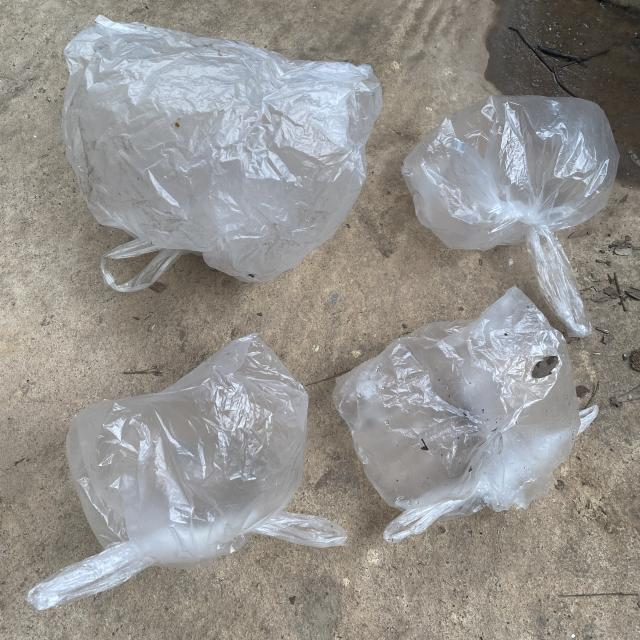Single-layer Plastic: (62, 15, 381, 291), (28, 334, 345, 609), (334, 288, 599, 542), (402, 96, 619, 336)
